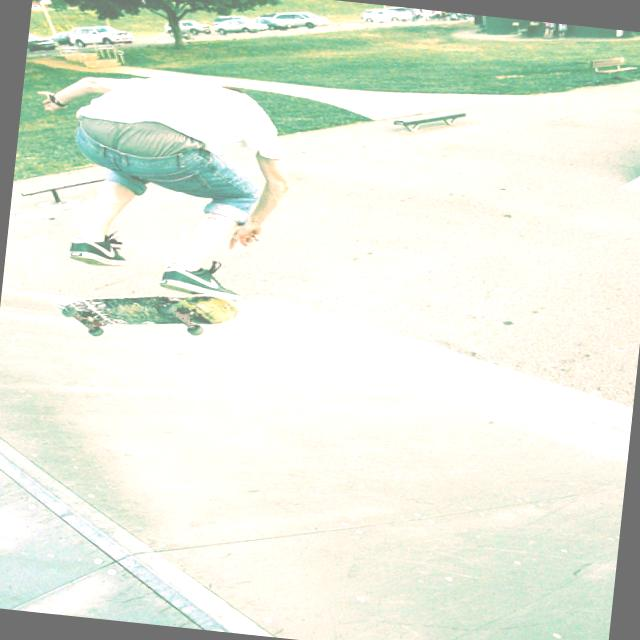Vehicle: (68, 22, 136, 52), (162, 17, 212, 41), (213, 18, 267, 40), (272, 10, 330, 30), (362, 8, 408, 26), (27, 32, 58, 58), (252, 15, 298, 32), (212, 13, 252, 28), (384, 6, 412, 20), (50, 30, 74, 46)
